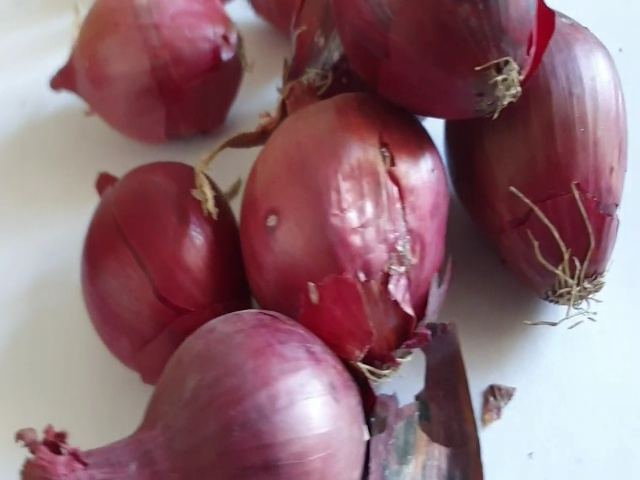red_onion: (240, 88, 445, 313), (5, 377, 374, 476), (450, 116, 624, 322), (22, 1, 246, 144), (324, 2, 557, 120), (78, 162, 240, 313)
